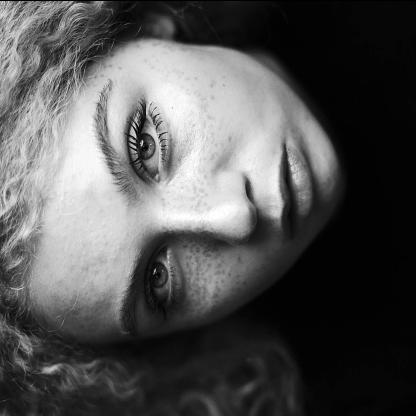Eye: (124, 89, 173, 191), (140, 245, 189, 321)
Mouth: (276, 133, 316, 246)
Nose: (176, 170, 259, 247)
